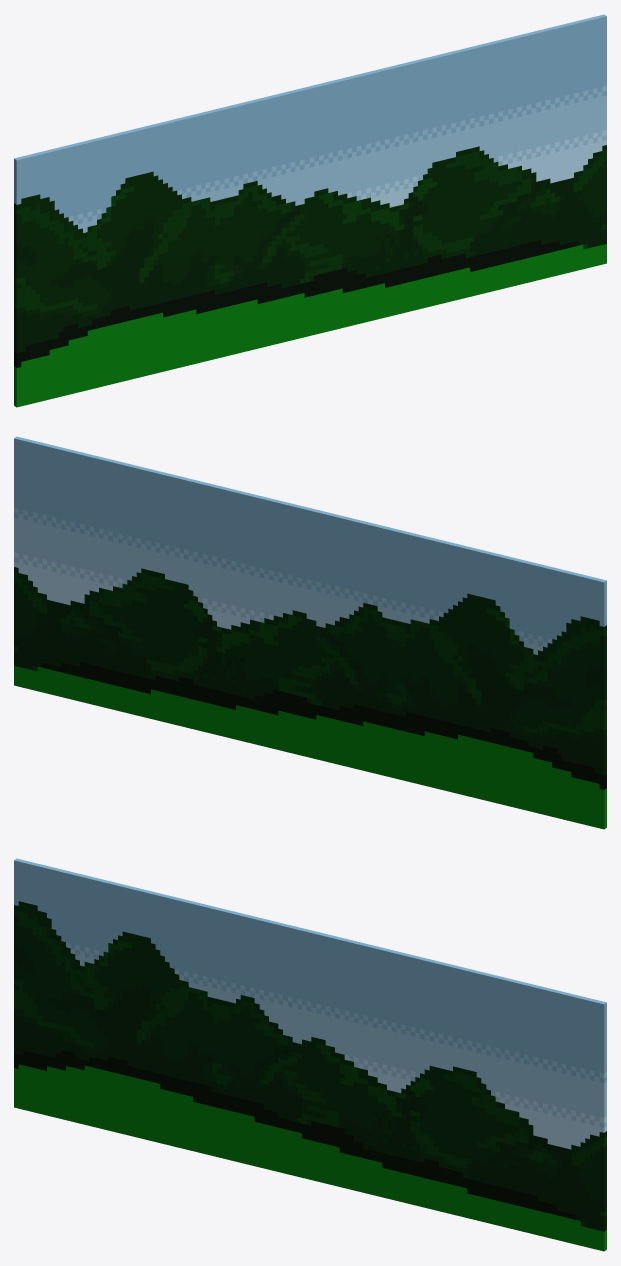
File: haikei1_1.fbx
3 renders of one model, top to bottom at view 1: azimuth 30°, elevation 25°; view 2: azimuth 150°, elevation 25°; view 3: azimuth 330°, elevation 25°, orthographic.
Parts seen in each view (by area): view 1: ObjObject.003; view 2: ObjObject.003; view 3: ObjObject.003.
Part boxes in pixels (left/top/right/bottom): ObjObject.003: left=14, top=14, right=606, bottom=407; ObjObject.003: left=14, top=436, right=606, bottom=829; ObjObject.003: left=14, top=858, right=606, bottom=1251.
Size of the model in its own units: 1250 by 500 by 10.
Materials: 1 (1 with a texture image).
